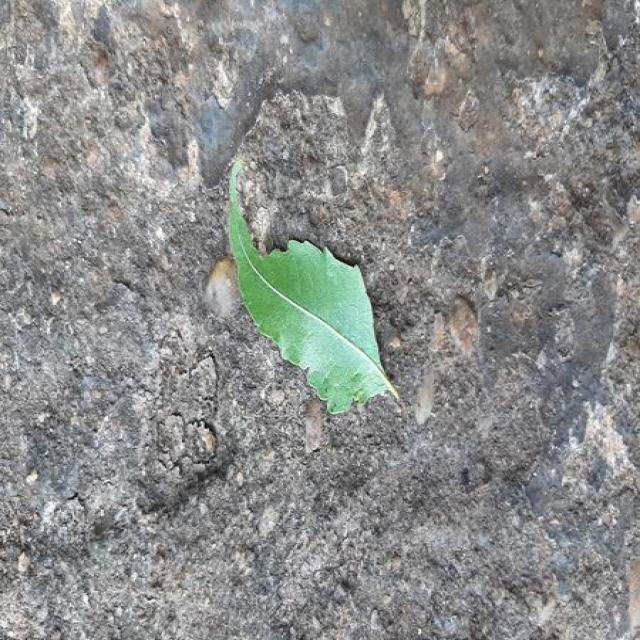neem: (228, 161, 397, 413)
